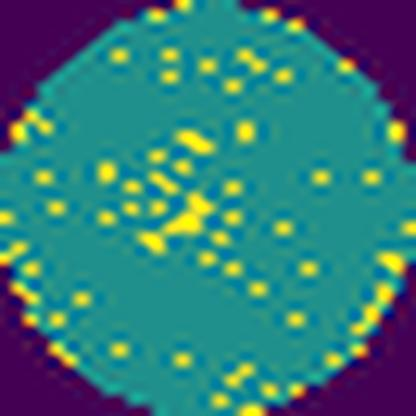Center: (132, 117, 222, 254)
